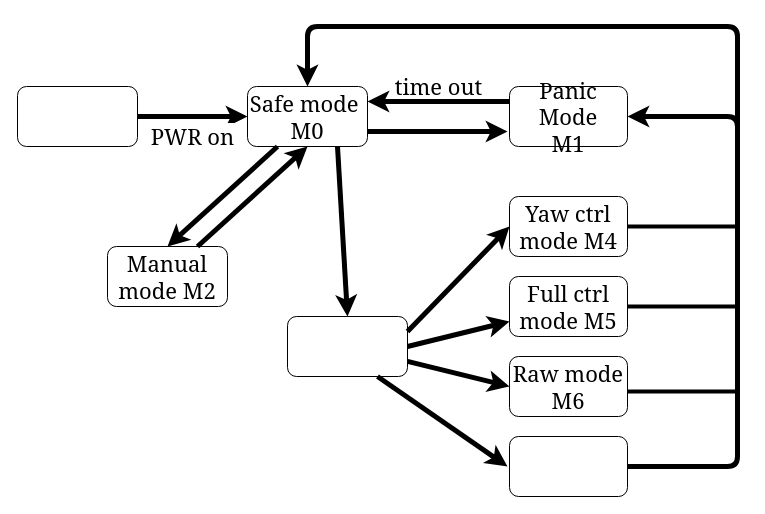
The diagram is 765 pixels wide and 514 high, and some of its shapes have lost their labels. The centre of each missing label's shape, as x and y in pixels:
Calibration mode M3: the point at 347,346
Height ctrl mode M7: the point at 568,466
Off: the point at 77,116
